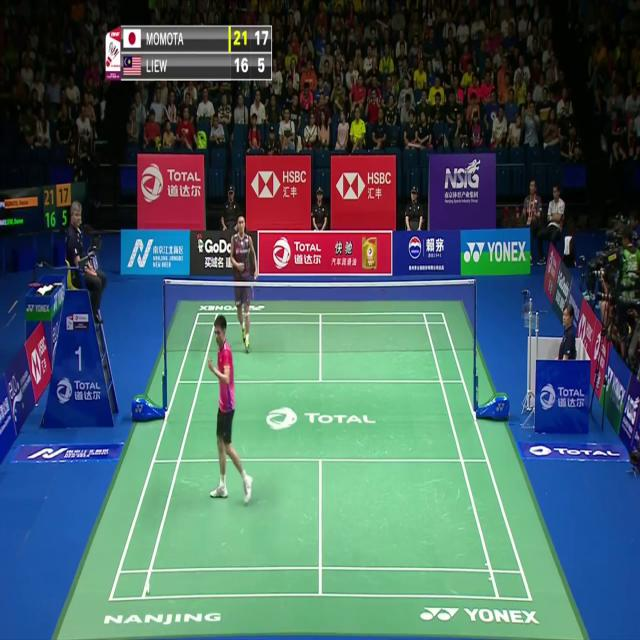Shuttlecock: (145, 581, 151, 592)
